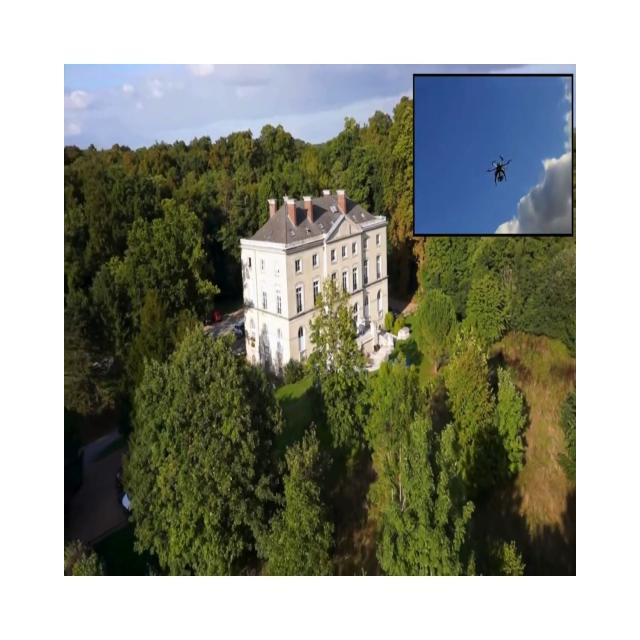drone: (486, 154, 512, 186)
